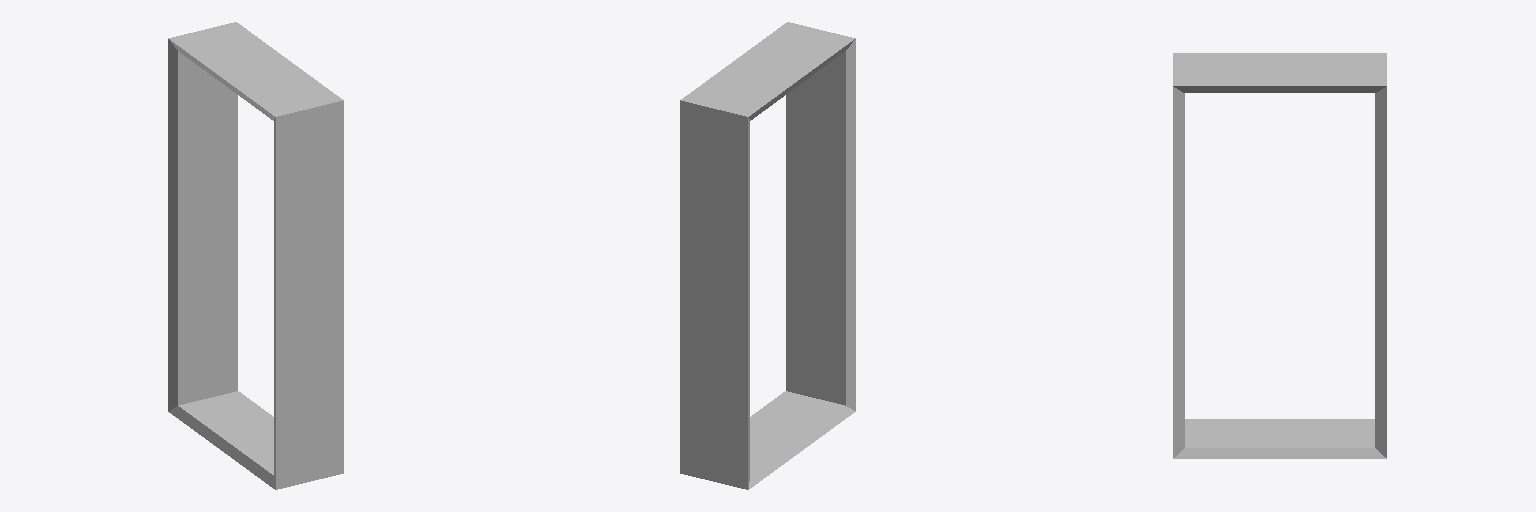
The model's file is futryna.obj.
The picture shows the model from 3 angles: view 1: azimuth 30°, elevation 25°; view 2: azimuth 150°, elevation 25°; view 3: azimuth 270°, elevation 25°; orthographic projection.
Parts seen in each view (by area): view 1: Futryna_Cube.001; view 2: Futryna_Cube.001; view 3: Futryna_Cube.001.
Part boxes in pixels (left/top/right/bottom): Futryna_Cube.001: left=168, top=22, right=343, bottom=489; Futryna_Cube.001: left=680, top=22, right=855, bottom=489; Futryna_Cube.001: left=1173, top=53, right=1386, bottom=458.
Size of the model in its own units: 0.7882 by 4.12 by 2.15.